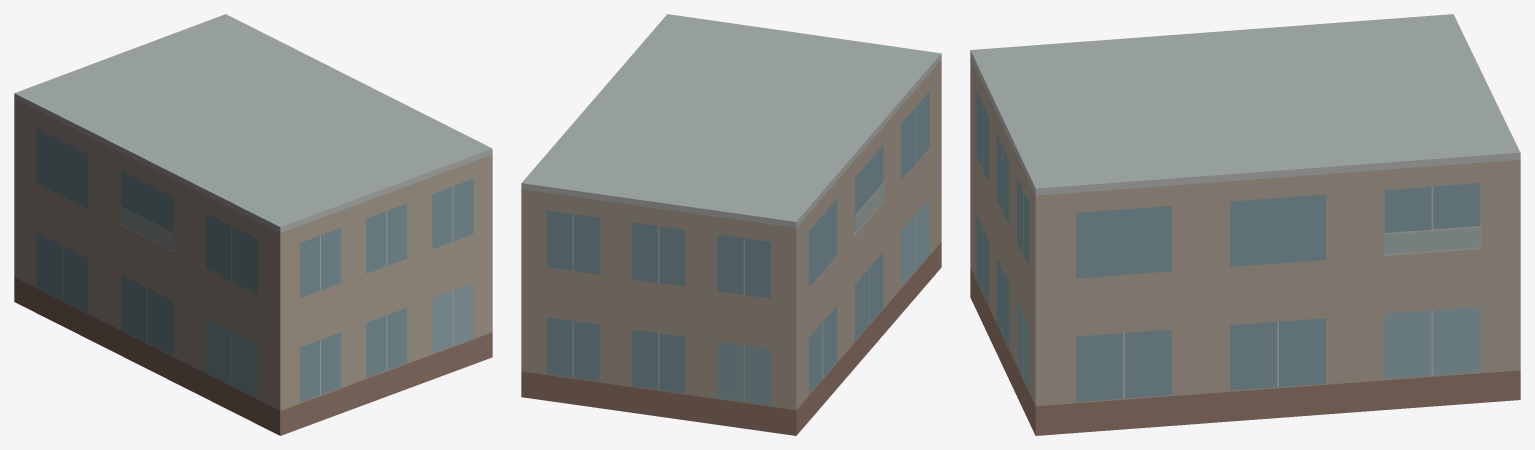
Rendered from survey-upis-32971183.glb.
3 renders of one model, left to right at view 1: azimuth 30°, elevation 25°; view 2: azimuth 150°, elevation 25°; view 3: azimuth 270°, elevation 25°, orthographic. The views are drawn at different scales.
Visible parts, largest first — view 1: survey-upis-32971183.tmp; view 2: survey-upis-32971183.tmp; view 3: survey-upis-32971183.tmp.
Boxes of the visible parts, x1,y1,x2,y2 form: survey-upis-32971183.tmp: (14,14,492,435); survey-upis-32971183.tmp: (521,14,941,435); survey-upis-32971183.tmp: (970,14,1520,435).
Bounding box in the file's own units: 13.04 × 8.6 × 17.35.
